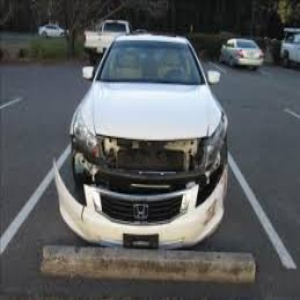bumper: (43, 171, 224, 245)
